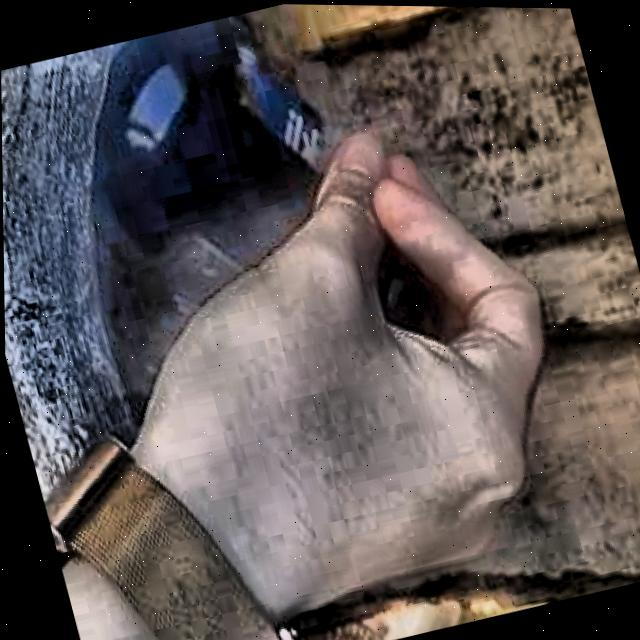glass: (91, 17, 320, 270), (375, 242, 443, 337)
